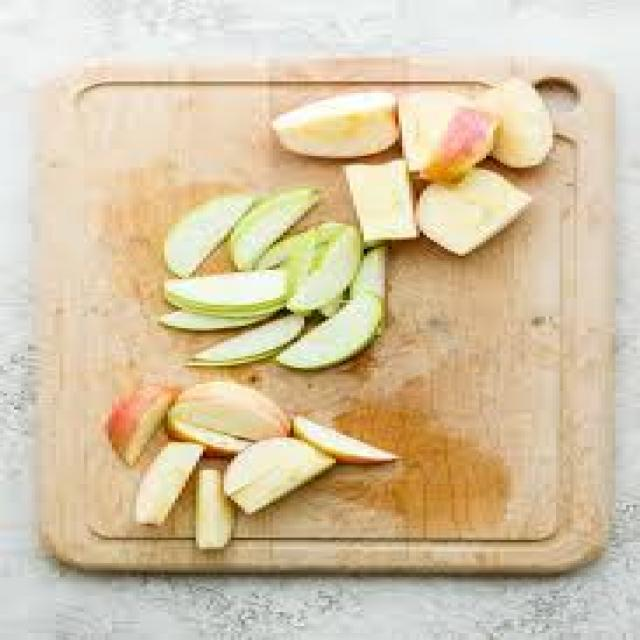Apple: (412, 184, 541, 255), (403, 87, 495, 180), (274, 89, 398, 157), (230, 435, 330, 516), (337, 157, 421, 246), (296, 295, 388, 376), (162, 192, 243, 278), (177, 382, 278, 450), (482, 76, 550, 174), (180, 316, 302, 367), (292, 415, 398, 462), (154, 277, 292, 312), (109, 382, 171, 459), (249, 188, 311, 264), (146, 441, 192, 522), (195, 473, 230, 555)
